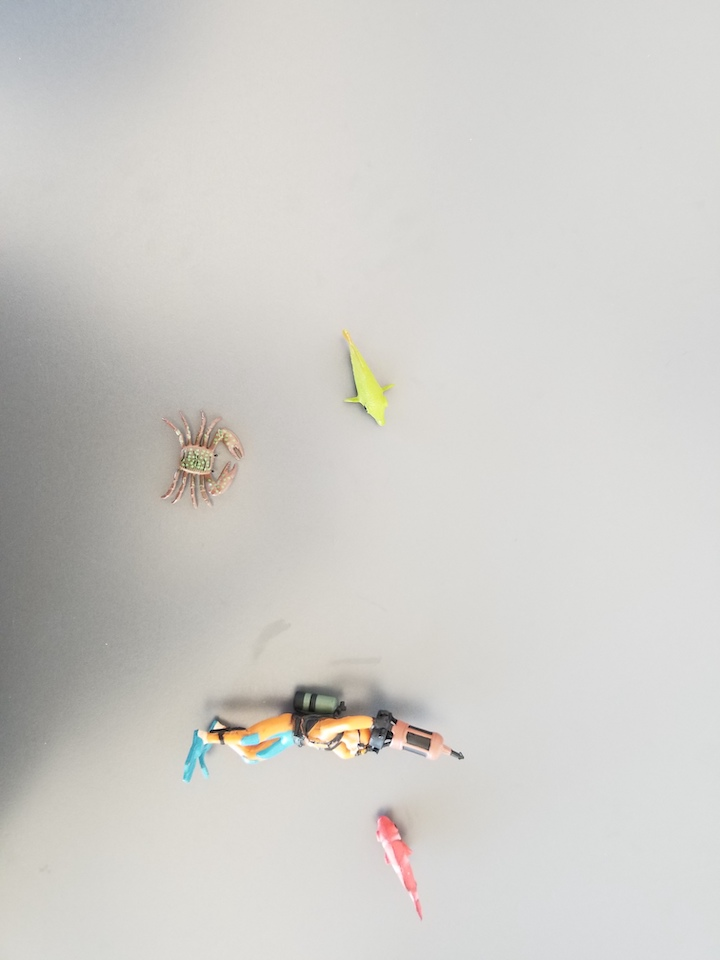crab: (160, 410, 248, 510)
diver: (181, 684, 463, 792)
fish: (370, 810, 432, 926), (334, 330, 397, 428)
